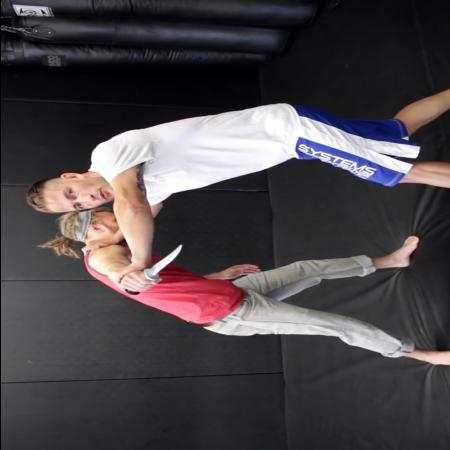long weapon: (119, 241, 187, 298)
